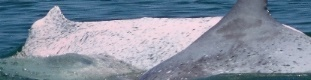fin: (19, 3, 229, 70)
